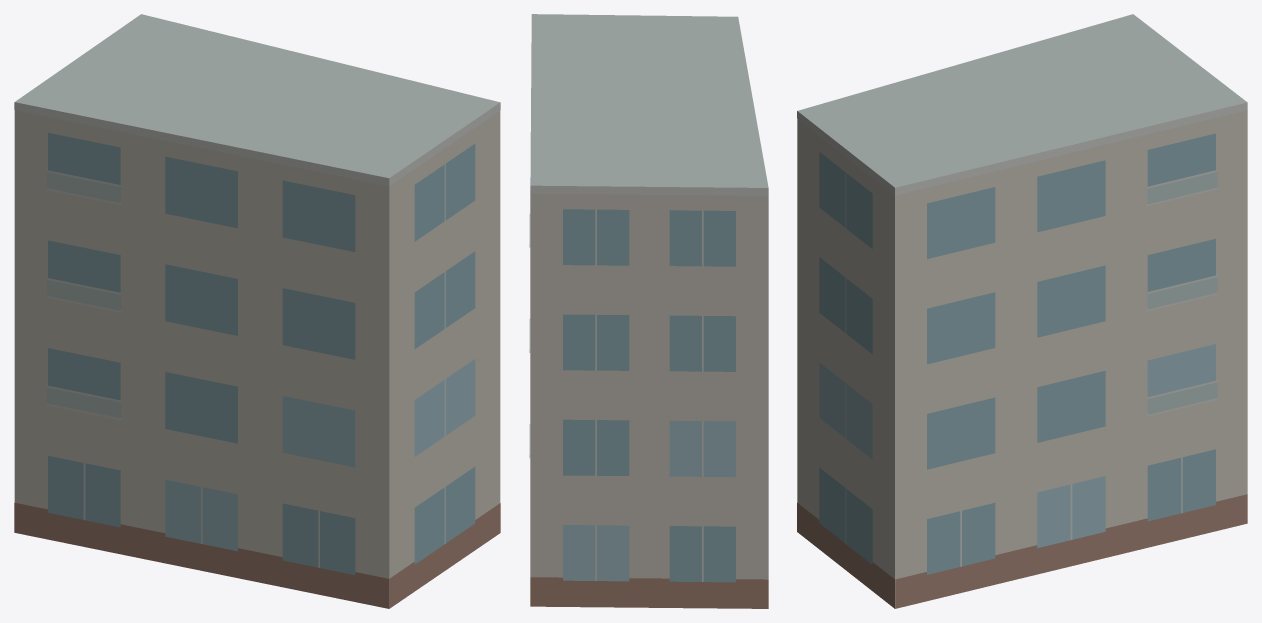
The model's file is survey-upis-32723567.glb.
3 views of the same model, side by side, from view 1: azimuth 30°, elevation 25°; view 2: azimuth 150°, elevation 25°; view 3: azimuth 270°, elevation 25° (orthographic). The views are drawn at different scales.
Parts seen in each view (by area): view 1: survey-upis-32723567.tmp; view 2: survey-upis-32723567.tmp; view 3: survey-upis-32723567.tmp.
Part boxes in pixels (box(x1,y1,x2,y2)): survey-upis-32723567.tmp: box(14, 14, 500, 608); survey-upis-32723567.tmp: box(529, 14, 768, 608); survey-upis-32723567.tmp: box(797, 14, 1247, 608).
Size of the model in its own units: 11.69 by 13.2 by 12.8.
